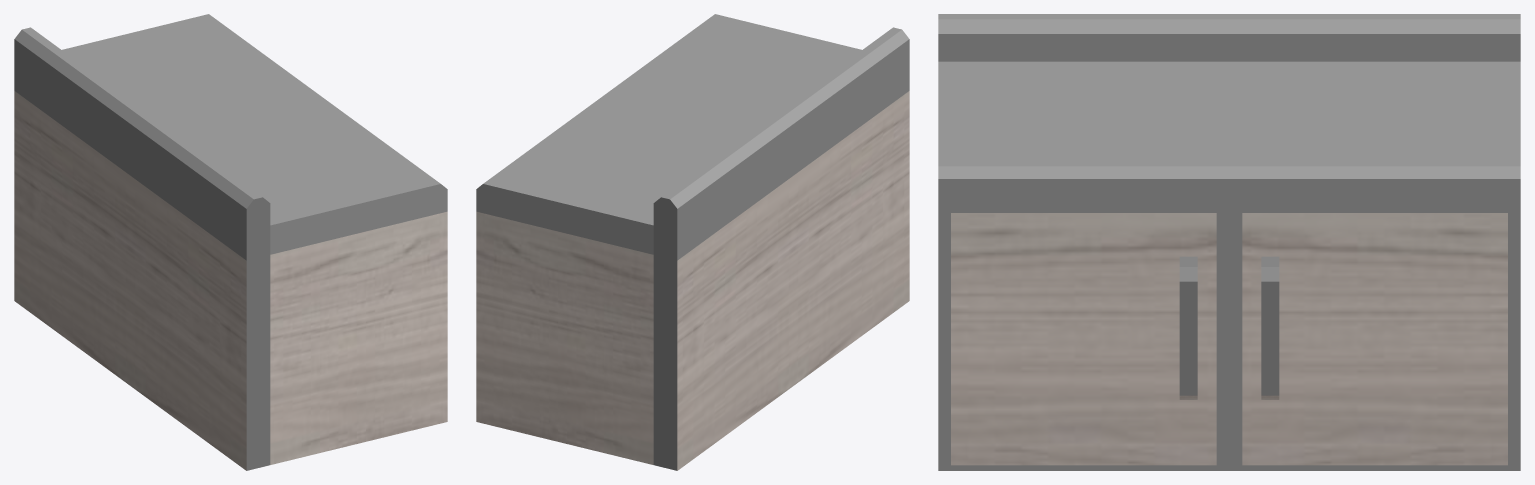
Rendered from ScienceCountersingle.fbx.
3 views of the same model, side by side, from view 1: azimuth 30°, elevation 25°; view 2: azimuth 150°, elevation 25°; view 3: azimuth 270°, elevation 25° (orthographic). The views are drawn at different scales.
Parts seen in each view (by area): view 1: Cube; view 2: Cube; view 3: Cube.
Boxes of the visible parts, <box> form: Cube: <box>14,14,447,470</box>; Cube: <box>476,14,909,470</box>; Cube: <box>938,14,1520,470</box>.
Bounding box in the file's own units: 225 × 256 × 400.
Materials: 3 (1 with a texture image).
